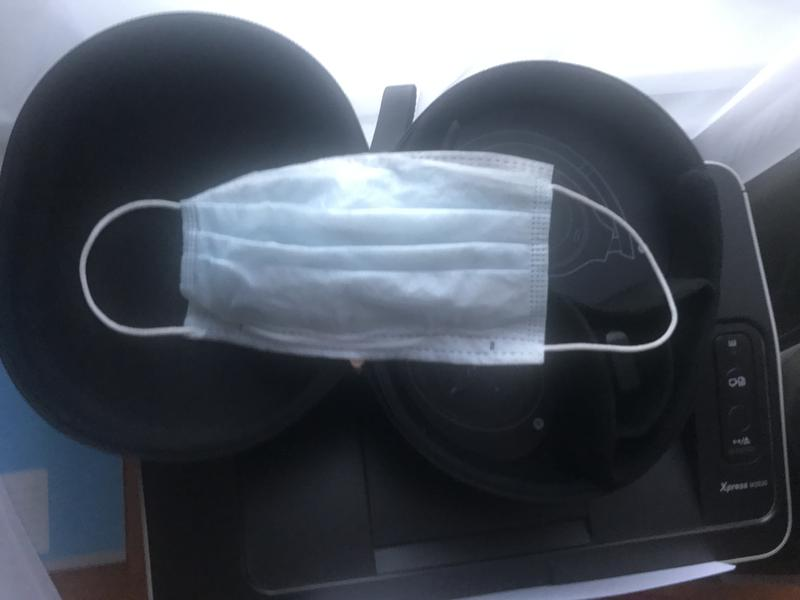medical_mask: (79, 153, 678, 363)
